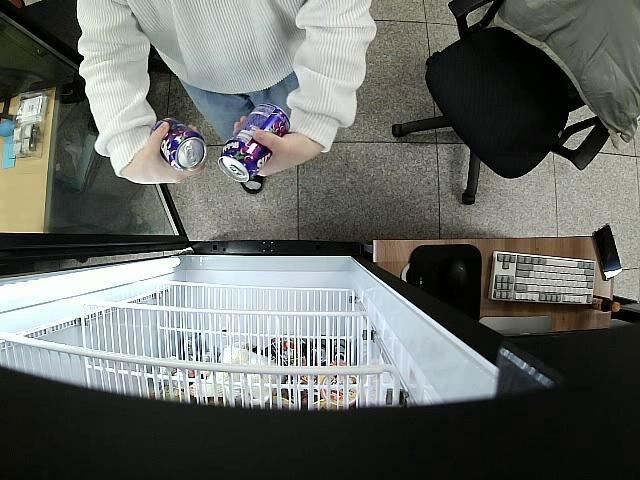14_welchsGrape: (217, 104, 290, 183), (152, 116, 206, 172)
